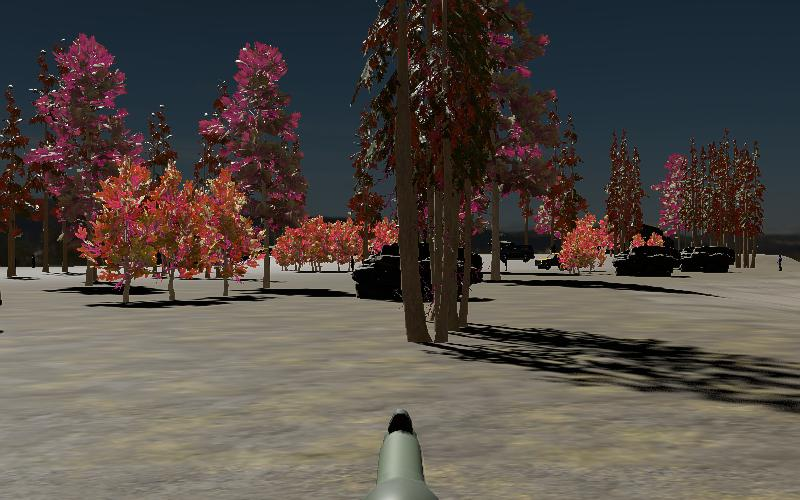car: (534, 250, 564, 270)
